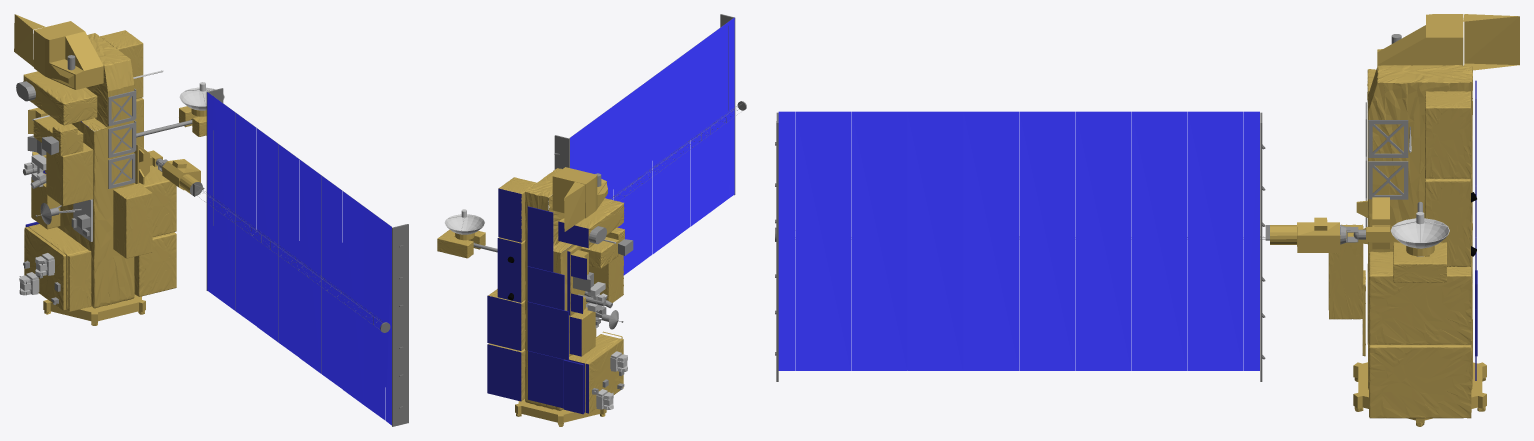
The model's file is terra.glb.
3 views of the same model, side by side, from view 1: azimuth 30°, elevation 25°; view 2: azimuth 150°, elevation 25°; view 3: azimuth 270°, elevation 25° (orthographic). The views are drawn at different scales.
Parts seen in each view (by area): view 1: Terra_vFINAL [Layer17], Terra_vFINAL [Layer1], Terra_vFINAL [Layer18], Terra_vFINAL [Layer16], Terra_vFINAL [Layer19], Terra_vFINAL [Layer14], Terra_vFINAL [Layer10], Terra_vFINAL [Layer5], Terra_vFINAL [Layer3], Terra_vFINAL [Layer2], Terra_vFINAL [Layer21], Terra_vFINAL [Layer13] (+6 smaller); view 2: Terra_vFINAL [Layer17], Terra_vFINAL [Layer15], Terra_vFINAL [Layer18], Terra_vFINAL [Layer1], Terra_vFINAL [Layer19], Terra_vFINAL [Layer16], Terra_vFINAL [Layer14], Terra_vFINAL [Layer21], Terra_vFINAL [Layer3], Terra_vFINAL [Layer5], Terra_vFINAL [Layer4], Terra_vFINAL [Layer9] (+6 smaller); view 3: Terra_vFINAL [Layer17], Terra_vFINAL [Layer18], Terra_vFINAL [Layer1], Terra_vFINAL [Layer2], Terra_vFINAL [Layer13], Terra_vFINAL [Layer11], Terra_vFINAL [Layer12], Terra_vFINAL [Layer10], Terra_vFINAL [Layer19], Terra_vFINAL [Layer9], Terra_vFINAL [Layer16], Terra_vFINAL [Layer20].
Part boxes in pixels (left/top/right/bottom): Terra_vFINAL [Layer17]: left=207, top=92, right=391, bottom=425; Terra_vFINAL [Layer1]: left=57, top=33, right=134, bottom=308; Terra_vFINAL [Layer18]: left=14, top=14, right=206, bottom=325; Terra_vFINAL [Layer16]: left=189, top=88, right=408, bottom=426; Terra_vFINAL [Layer19]: left=16, top=55, right=192, bottom=304; Terra_vFINAL [Layer14]: left=24, top=227, right=91, bottom=311; Terra_vFINAL [Layer10]: left=113, top=183, right=152, bottom=258; Terra_vFINAL [Layer5]: left=46, top=143, right=93, bottom=206; Terra_vFINAL [Layer3]: left=23, top=71, right=97, bottom=125; Terra_vFINAL [Layer2]: left=134, top=232, right=176, bottom=296; Terra_vFINAL [Layer21]: left=19, top=70, right=163, bottom=295; Terra_vFINAL [Layer13]: left=134, top=165, right=176, bottom=236; Terra_vFINAL [Layer17]: left=570, top=17, right=734, bottom=275; Terra_vFINAL [Layer15]: left=487, top=188, right=588, bottom=414; Terra_vFINAL [Layer18]: left=455, top=167, right=607, bottom=426; Terra_vFINAL [Layer1]: left=525, top=168, right=596, bottom=410; Terra_vFINAL [Layer19]: left=473, top=173, right=633, bottom=394; Terra_vFINAL [Layer16]: left=554, top=14, right=746, bottom=253; Terra_vFINAL [Layer14]: left=586, top=331, right=623, bottom=412; Terra_vFINAL [Layer21]: left=586, top=239, right=627, bottom=409; Terra_vFINAL [Layer3]: left=559, top=198, right=624, bottom=247; Terra_vFINAL [Layer5]: left=589, top=254, right=623, bottom=302; Terra_vFINAL [Layer4]: left=580, top=227, right=624, bottom=268; Terra_vFINAL [Layer9]: left=437, top=229, right=485, bottom=258; Terra_vFINAL [Layer17]: left=778, top=111, right=1259, bottom=370; Terra_vFINAL [Layer18]: left=1270, top=14, right=1519, bottom=426; Terra_vFINAL [Layer1]: left=1367, top=65, right=1472, bottom=389; Terra_vFINAL [Layer2]: left=1368, top=343, right=1471, bottom=418; Terra_vFINAL [Layer13]: left=1368, top=251, right=1471, bottom=344; Terra_vFINAL [Layer11]: left=1425, top=91, right=1471, bottom=178; Terra_vFINAL [Layer12]: left=1425, top=170, right=1470, bottom=266; Terra_vFINAL [Layer10]: left=1328, top=224, right=1363, bottom=319; Terra_vFINAL [Layer19]: left=1340, top=34, right=1423, bottom=256; Terra_vFINAL [Layer9]: left=1393, top=242, right=1447, bottom=282; Terra_vFINAL [Layer16]: left=775, top=112, right=1269, bottom=381; Terra_vFINAL [Layer20]: left=1390, top=212, right=1449, bottom=248.
Size of the model in its own units: 3.55 by 4.71 by 9.
